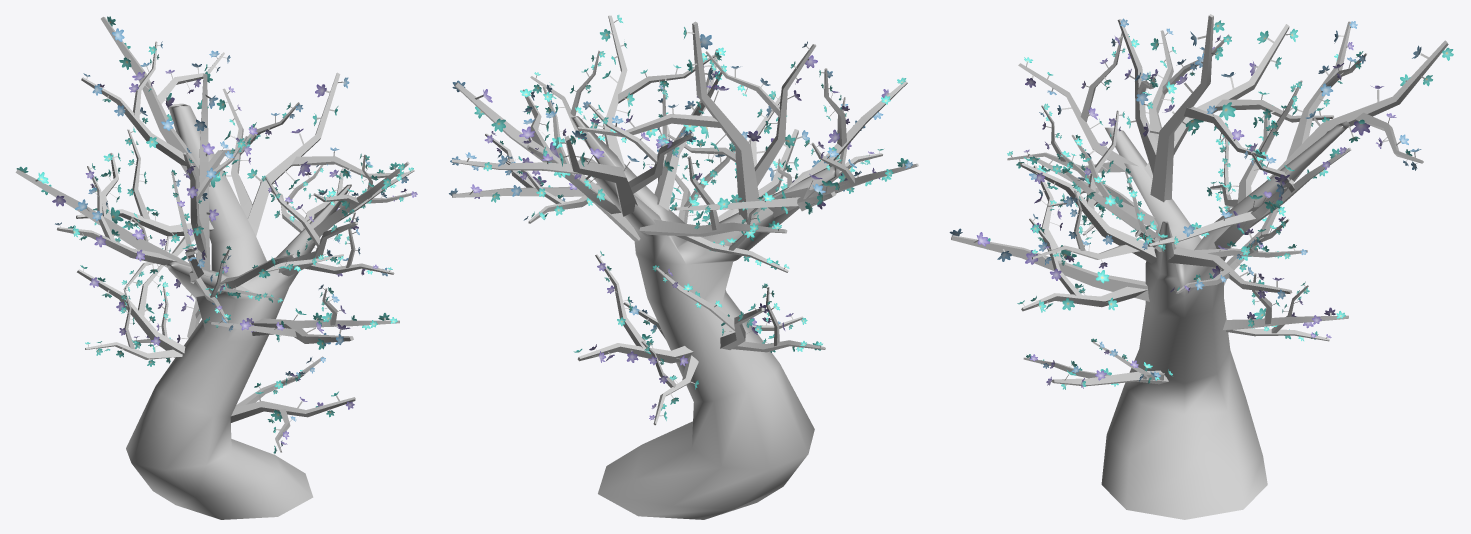
File: Asset_Arbre_01.fbx
The picture shows the model from 3 angles, left to right: view 1: azimuth 30°, elevation 25°; view 2: azimuth 150°, elevation 25°; view 3: azimuth 270°, elevation 25°; orthographic projection. The views are drawn at different scales.
Parts seen in each view (by area): view 1: pCylinder2; view 2: pCylinder2; view 3: pCylinder2.
Part boxes in pixels (x1=…): pCylinder2: x1=15, y1=16, x2=417, y2=519; pCylinder2: x1=449, y1=15, x2=918, y2=519; pCylinder2: x1=949, y1=14, x2=1453, y2=519.
Size of the model in its own units: 24.36 by 26.19 by 26.46.
